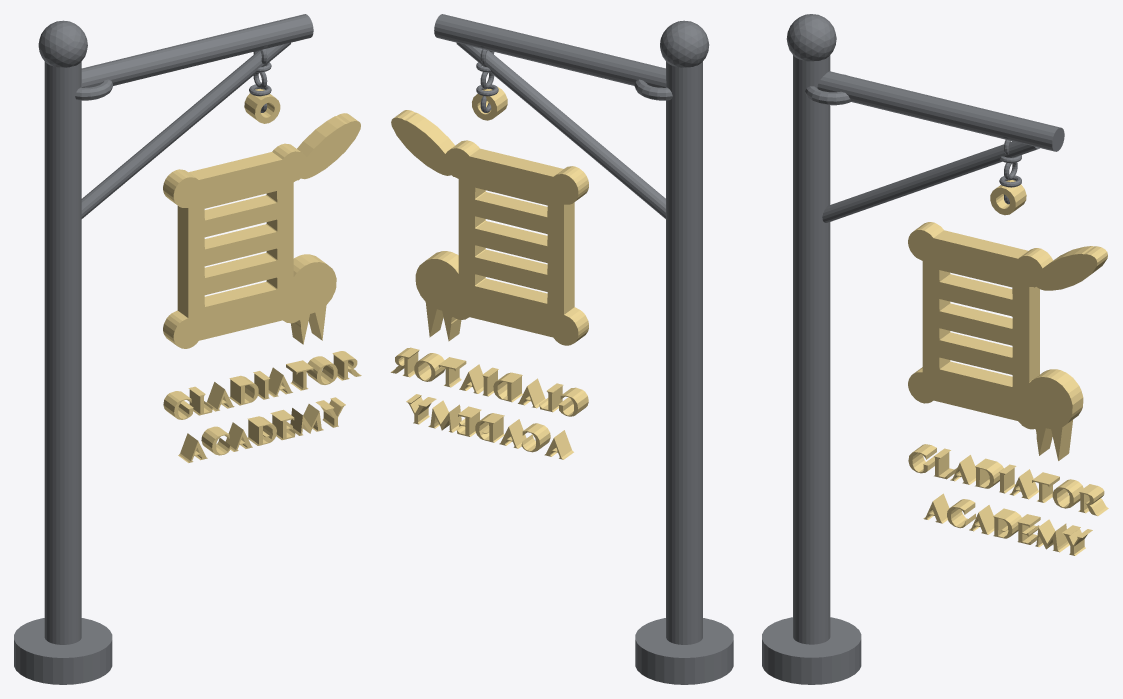
The model's file is gladiator_academy.glb.
The picture shows the model from 3 angles, left to right: view 1: azimuth 30°, elevation 25°; view 2: azimuth 150°, elevation 25°; view 3: azimuth 330°, elevation 25°; orthographic projection.
Parts seen in each view (by area): view 1: sign, post, arm, post_base, brace, post_cap; view 2: sign, post, arm, post_base, brace, post_cap; view 3: sign, post, arm, post_base, brace, post_cap, scroll.
Boxes of the visible parts, x1=… form: sign: x1=163, y1=89, x2=361, y2=462; post: x1=44, y1=61, x2=81, y2=644; arm: x1=81, y1=14, x2=313, y2=87; post_base: x1=14, y1=618, x2=112, y2=684; brace: x1=81, y1=42, x2=290, y2=218; post_cap: x1=38, y1=20, x2=87, y2=67; sign: x1=390, y1=86, x2=588, y2=459; post: x1=666, y1=61, x2=702, y2=644; arm: x1=434, y1=14, x2=666, y2=87; post_base: x1=635, y1=618, x2=733, y2=684; brace: x1=456, y1=43, x2=665, y2=218; post_cap: x1=660, y1=20, x2=709, y2=67; sign: x1=908, y1=180, x2=1108, y2=555; post: x1=793, y1=55, x2=830, y2=644; arm: x1=817, y1=71, x2=1064, y2=151; post_base: x1=762, y1=617, x2=861, y2=684; brace: x1=822, y1=141, x2=1039, y2=222; post_cap: x1=786, y1=14, x2=836, y2=61; scroll: x1=805, y1=74, x2=851, y2=105.
Bounding box in the file's own units: 1.56 × 2.86 × 0.3978.
